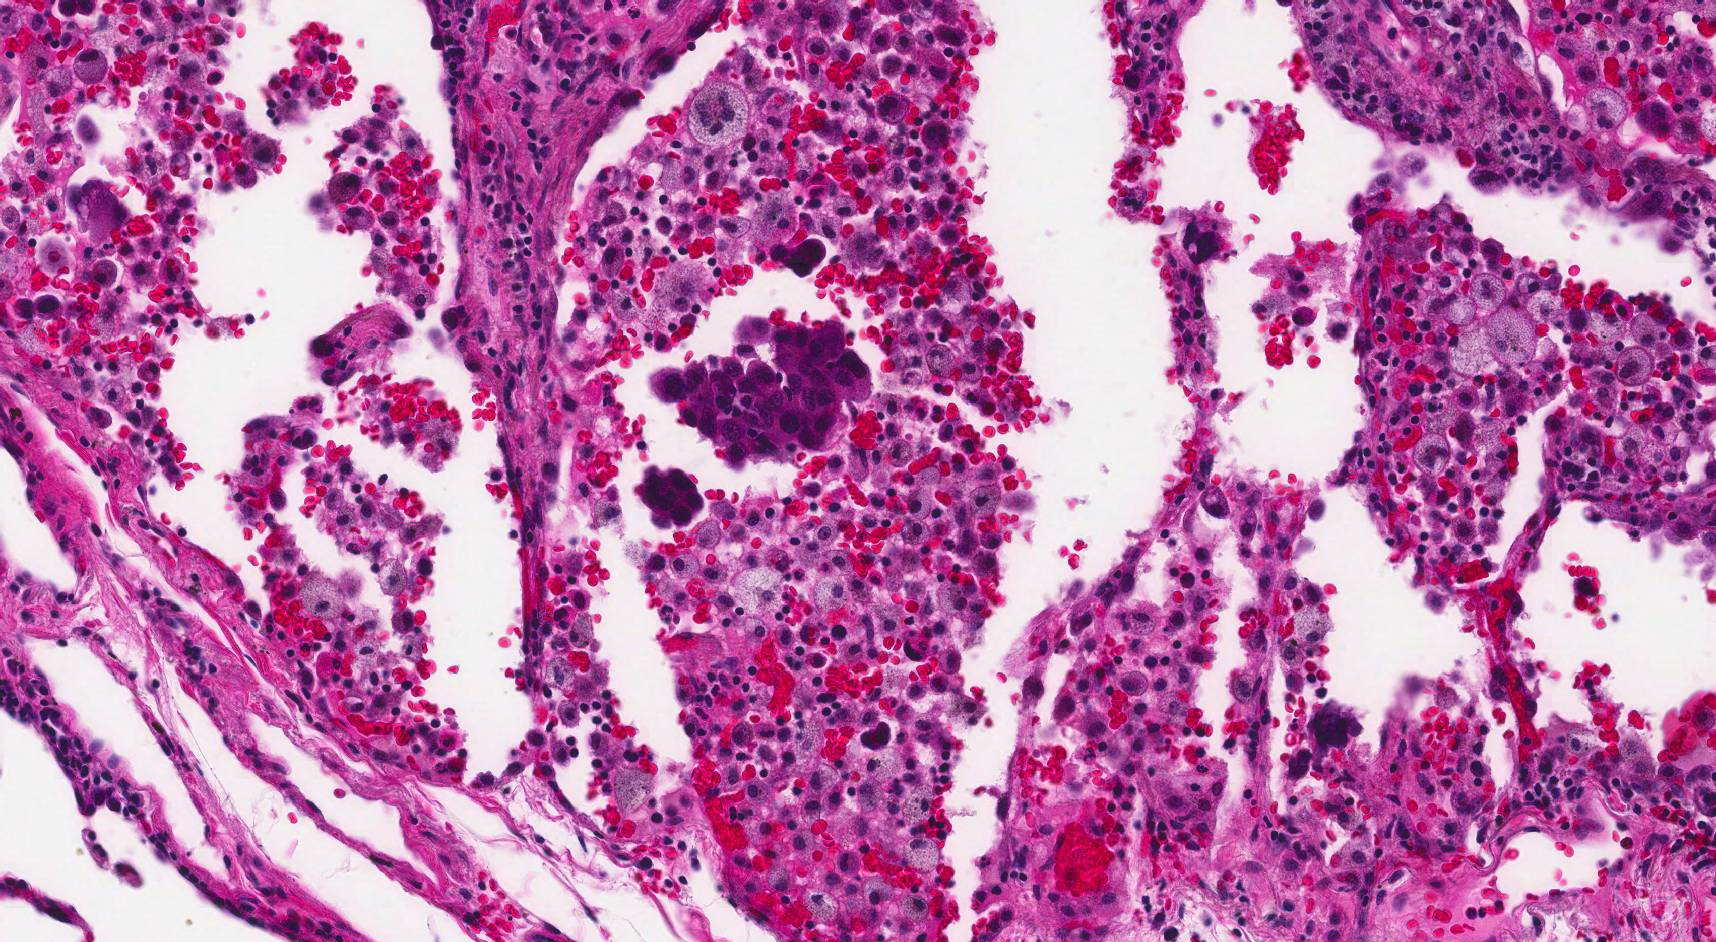stas: (647, 316, 869, 468), (640, 467, 703, 531)
